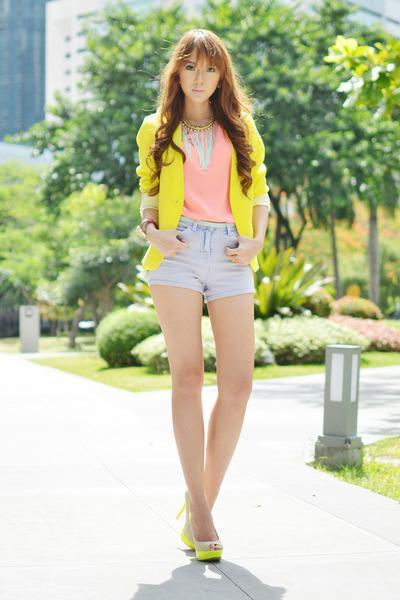Shorts: (140, 220, 262, 305)
jacket: (134, 105, 272, 273)
short sleeve shirt: (178, 119, 236, 224)
